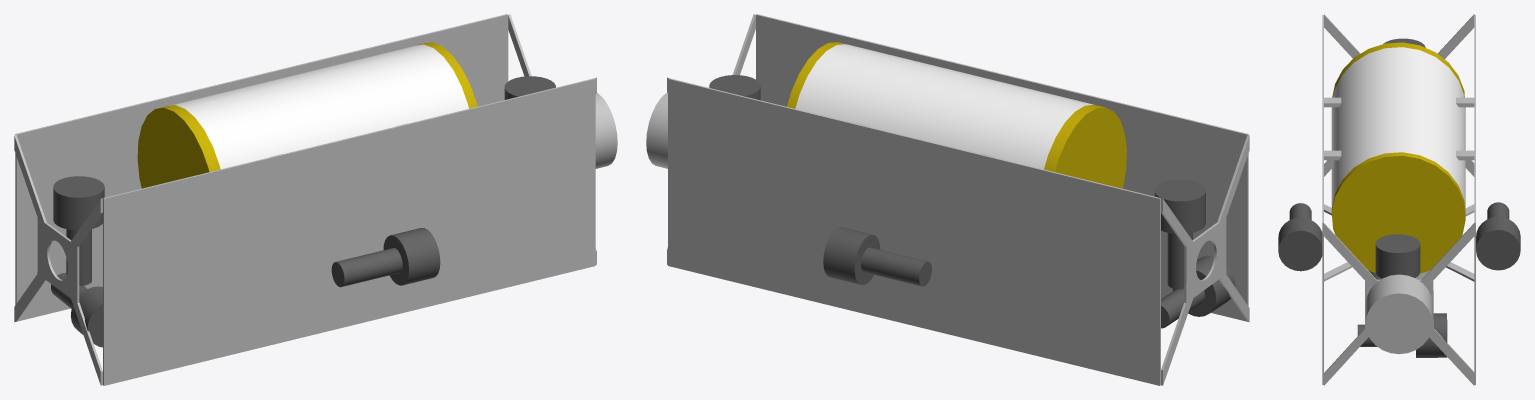
File: varun.dae
3 views of the same model, side by side, from view 1: azimuth 30°, elevation 25°; view 2: azimuth 150°, elevation 25°; view 3: azimuth 270°, elevation 25° (orthographic). The views are drawn at different scales.
Parts seen in each view (by area): view 1: instance_0, instance_1, instance_2_002, instance_2_001, instance_10, instance_4_002, instance_4_001, instance_5_001, instance_16, instance_4_003, instance_4_004, instance_5_002 (+2 smaller); view 2: instance_1, instance_2_002, instance_0, instance_2_001, instance_10, instance_4, instance_4_002, instance_5, instance_16, instance_4_003, instance_5_002, instance_4_004 (+2 smaller); view 3: instance_2_002, instance_2, instance_16, instance_8_002, instance_4_001, instance_4, instance_4_004, instance_10, instance_2_001, instance_0, instance_1, instance_4_005 (+5 smaller).
Boxes of the visible parts, x1=… form: instance_0: x1=103, y1=78, x2=595, y2=385; instance_1: x1=15, y1=14, x2=508, y2=321; instance_2_002: x1=167, y1=44, x2=468, y2=169; instance_2_001: x1=137, y1=105, x2=220, y2=188; instance_10: x1=14, y1=134, x2=102, y2=385; instance_4_002: x1=53, y1=176, x2=104, y2=230; instance_4_001: x1=383, y1=228, x2=440, y2=285; instance_5_001: x1=331, y1=248, x2=402, y2=287; instance_16: x1=595, y1=93, x2=617, y2=168; instance_4_003: x1=70, y1=286, x2=102, y2=347; instance_4_004: x1=504, y1=76, x2=555, y2=99; instance_5_002: x1=66, y1=229, x2=91, y2=285; instance_1: x1=668, y1=78, x2=1160, y2=385; instance_2_002: x1=795, y1=44, x2=1093, y2=169; instance_0: x1=756, y1=14, x2=1248, y2=321; instance_2_001: x1=1044, y1=104, x2=1126, y2=188; instance_10: x1=1161, y1=135, x2=1249, y2=385; instance_4: x1=823, y1=227, x2=880, y2=284; instance_4_002: x1=1154, y1=179, x2=1205, y2=233; instance_5: x1=861, y1=247, x2=931, y2=286; instance_16: x1=646, y1=93, x2=667, y2=168; instance_4_003: x1=1172, y1=256, x2=1235, y2=316; instance_5_002: x1=1167, y1=232, x2=1192, y2=289; instance_4_004: x1=709, y1=75, x2=760, y2=100; instance_2_002: x1=1331, y1=47, x2=1465, y2=213; instance_2: x1=1331, y1=152, x2=1465, y2=273; instance_16: x1=1365, y1=274, x2=1432, y2=354; instance_8_002: x1=1324, y1=223, x2=1474, y2=385; instance_4_001: x1=1278, y1=217, x2=1322, y2=271; instance_4: x1=1476, y1=216, x2=1520, y2=270; instance_4_004: x1=1375, y1=234, x2=1420, y2=278; instance_10: x1=1324, y1=14, x2=1474, y2=176; instance_2_001: x1=1332, y1=42, x2=1465, y2=108; instance_0: x1=1322, y1=15, x2=1323, y2=384; instance_1: x1=1474, y1=15, x2=1475, y2=384; instance_4_005: x1=1416, y1=313, x2=1447, y2=357.
Size of the model in its own units: 1.21 by 0.5419 by 0.456.
